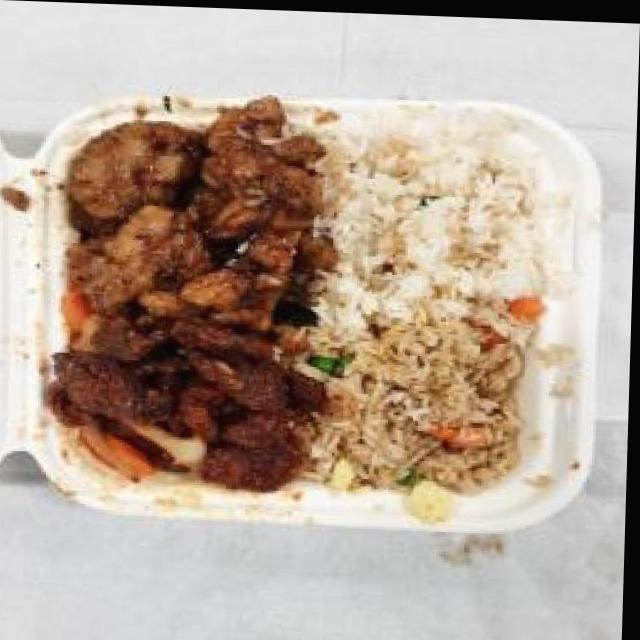Beijing Beef: (49, 309, 328, 495)
Fried Rice: (297, 312, 531, 492)
The Original Orange Chicken: (55, 92, 328, 318)
White Steamed Rice: (313, 109, 568, 322)
